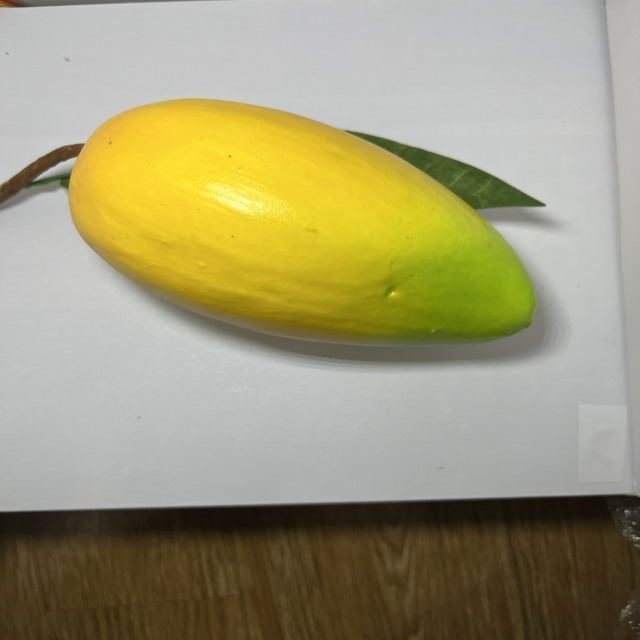Xoai: (34, 31, 577, 437)
